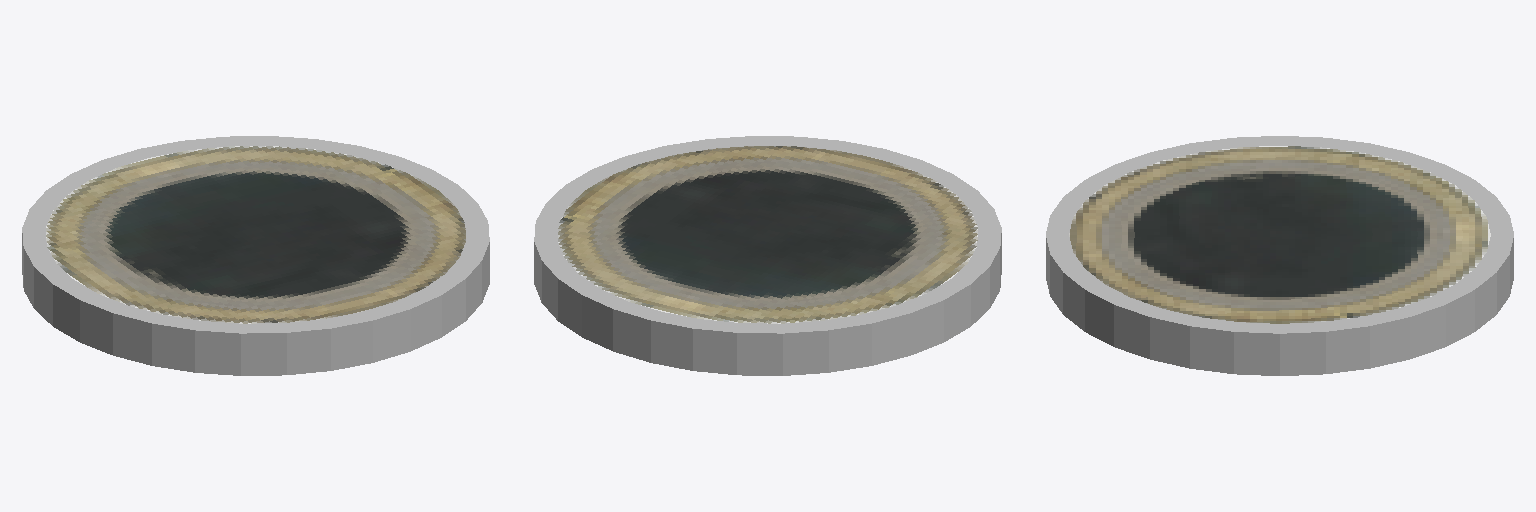
3 views of the same model, side by side, from view 1: azimuth 30°, elevation 25°; view 2: azimuth 150°, elevation 25°; view 3: azimuth 270°, elevation 25° (orthographic).
Parts seen in each view (by area): view 1: Chip_-_1_Point.042_Circle.112; view 2: Chip_-_1_Point.042_Circle.112; view 3: Chip_-_1_Point.042_Circle.112.
Boxes of the visible parts, <box> form: Chip_-_1_Point.042_Circle.112: <box>22,136,489,375</box>; Chip_-_1_Point.042_Circle.112: <box>534,136,1001,375</box>; Chip_-_1_Point.042_Circle.112: <box>1046,136,1513,375</box>.
Bounding box in the file's own units: 2 × 0.2 × 2.
3 materials, 1 textured.